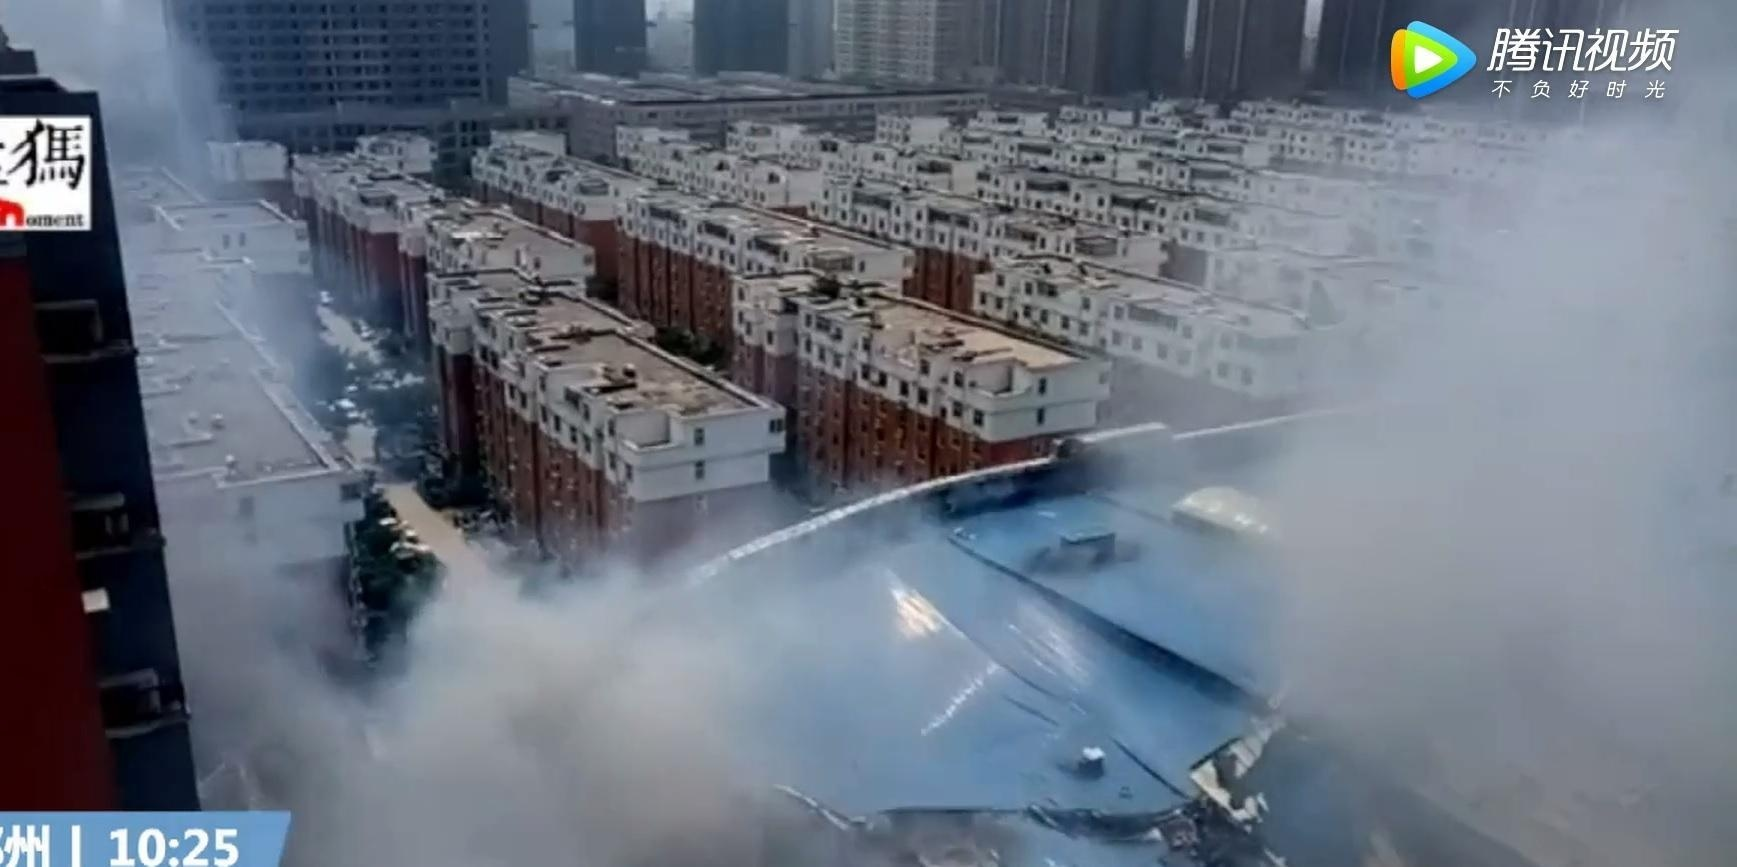fire: (890, 578, 946, 637)
